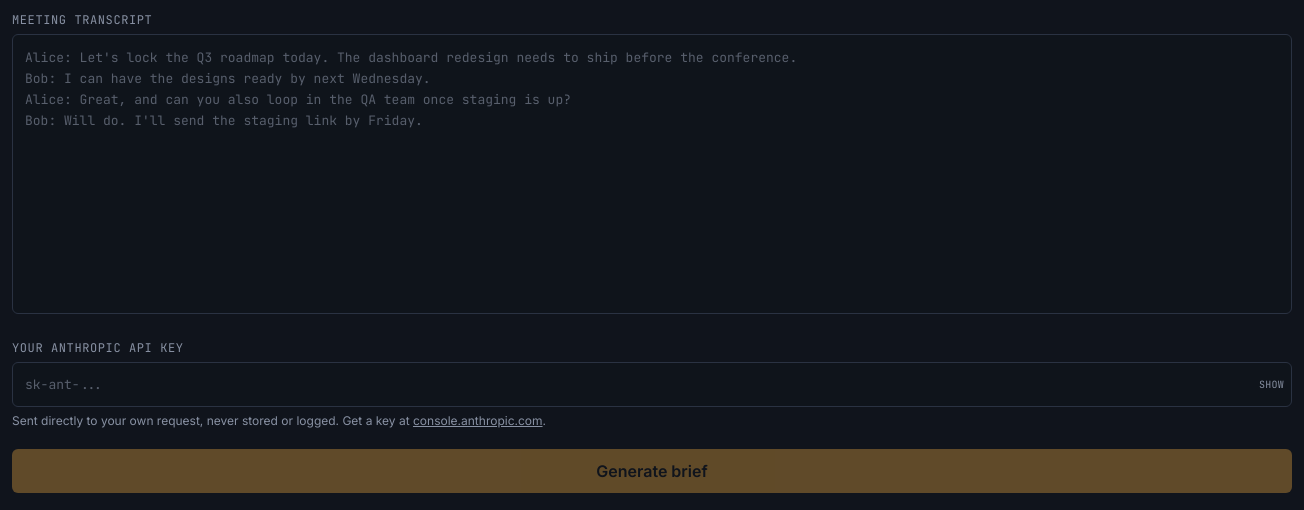
Scenario: TranscriptForm › enables the submit button once a valid transcript and key are entered
Step 1. Type "Alice: We need to finalize the budget by Friday. Bob: I will send the numbers." into the text box labelled "Meeting transcript" → (652,174), box [12,34,1292,314]
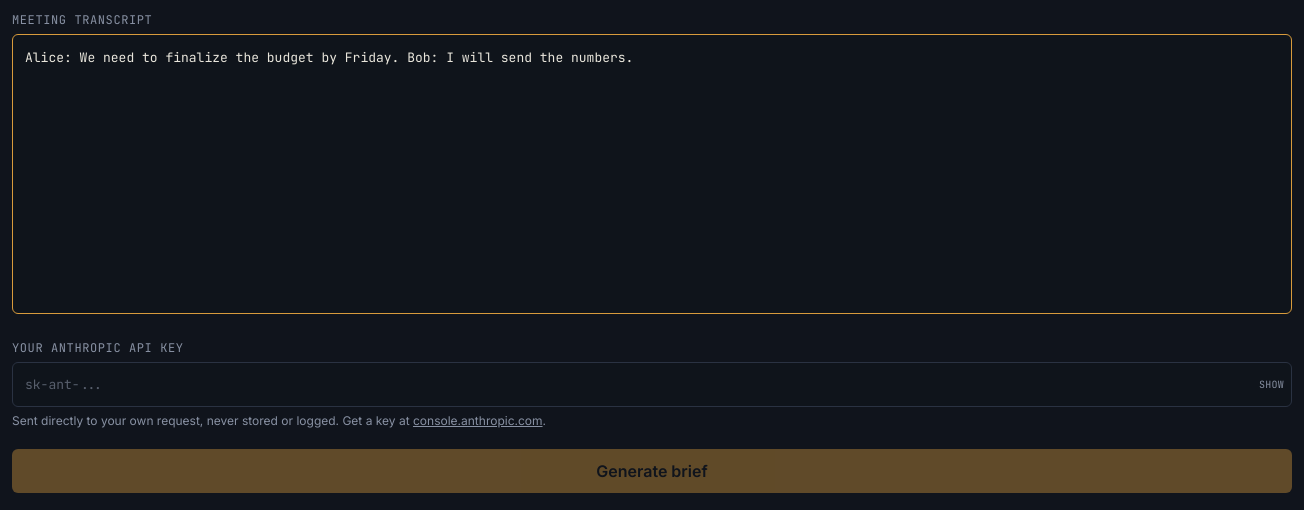
Step 2. Type "sk-ant-api03-abcdefghijklmnop" into the password field labelled "Your Anthropic API key" → (652,384), box [12,362,1292,407]
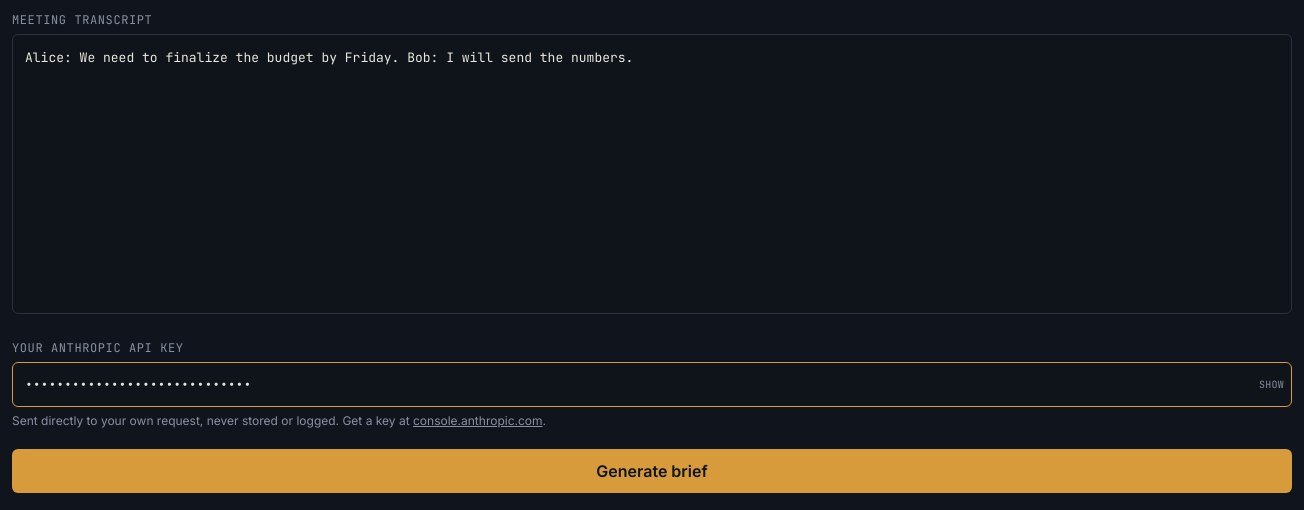
Expected: the button "Generate brief" is enabled, [12,449,1292,493]
